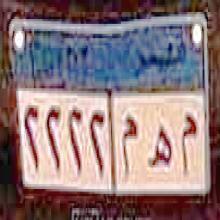2: (42, 98, 63, 178), (21, 96, 42, 174), (66, 102, 86, 183), (88, 103, 108, 182)
haa: (144, 110, 174, 183)
meem: (177, 108, 199, 180), (119, 109, 139, 185)
